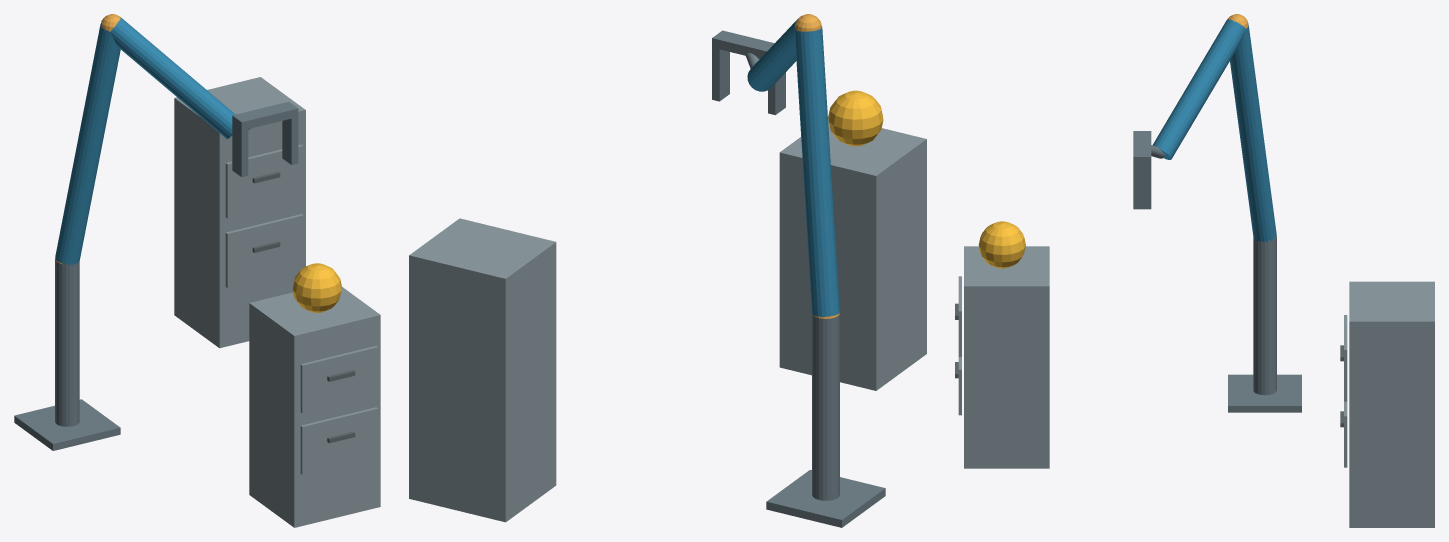
The picture shows the model from 3 angles, left to right: view 1: azimuth 30°, elevation 25°; view 2: azimuth 150°, elevation 25°; view 3: azimuth 270°, elevation 25°; orthographic projection. The views are drawn at different scales.
Parts seen in each view (by area): view 1: cabinet_1 body, cabinet_2 body, moving link 1, cabinet_2 drawer front, fixed post, moving link 2, cabinet_2 drawer front.001, cabinet_1 drawer front, cabinet_1 drawer front.001, pedestal, ball ball_1, gripper bridge (+2 smaller); view 2: cabinet_2 body, cabinet_1 body, moving link 1, fixed post, pedestal, ball ball_1, moving link 2, gripper bridge, gripper finger 1; view 3: cabinet_2 body, cabinet_1 body, moving link 1, fixed post, moving link 2, pedestal, ball ball_1, gripper finger 1, gripper bridge.
Part boxes in pixels (box(x1,y1,x2,y2)): cabinet_1 body: box(249, 287, 380, 527); cabinet_2 body: box(174, 77, 305, 348); moving link 1: box(55, 23, 120, 265); cabinet_2 drawer front: box(225, 214, 303, 288); fixed post: box(55, 260, 79, 426); moving link 2: box(110, 17, 235, 139); cabinet_2 drawer front.001: box(225, 144, 303, 218); cabinet_1 drawer front: box(300, 407, 378, 474); cabinet_1 drawer front.001: box(300, 346, 378, 413); pedestal: box(14, 399, 120, 450); ball ball_1: box(292, 263, 341, 312); gripper bridge: box(232, 101, 298, 130); cabinet_2 body: box(409, 218, 556, 522); cabinet_1 body: box(779, 117, 926, 390); moving link 1: box(795, 27, 839, 316); fixed post: box(812, 312, 839, 500); pedestal: box(766, 470, 885, 527); ball ball_1: box(828, 90, 883, 146); moving link 2: box(747, 18, 798, 91); gripper bridge: box(712, 30, 774, 59); gripper finger 1: box(712, 47, 729, 101); cabinet_2 body: box(1349, 281, 1434, 527); cabinet_1 body: box(964, 246, 1049, 468); moving link 1: box(1230, 25, 1276, 242); fixed post: box(1253, 236, 1276, 395); moving link 2: box(1152, 19, 1245, 159); pedestal: box(1228, 374, 1301, 412); ball ball_1: box(978, 221, 1025, 268); gripper finger 1: box(1133, 165, 1151, 209); gripper bridge: box(1133, 131, 1151, 164).
Bounding box in the file's own units: 1.17 × 1.48 × 1.62.
